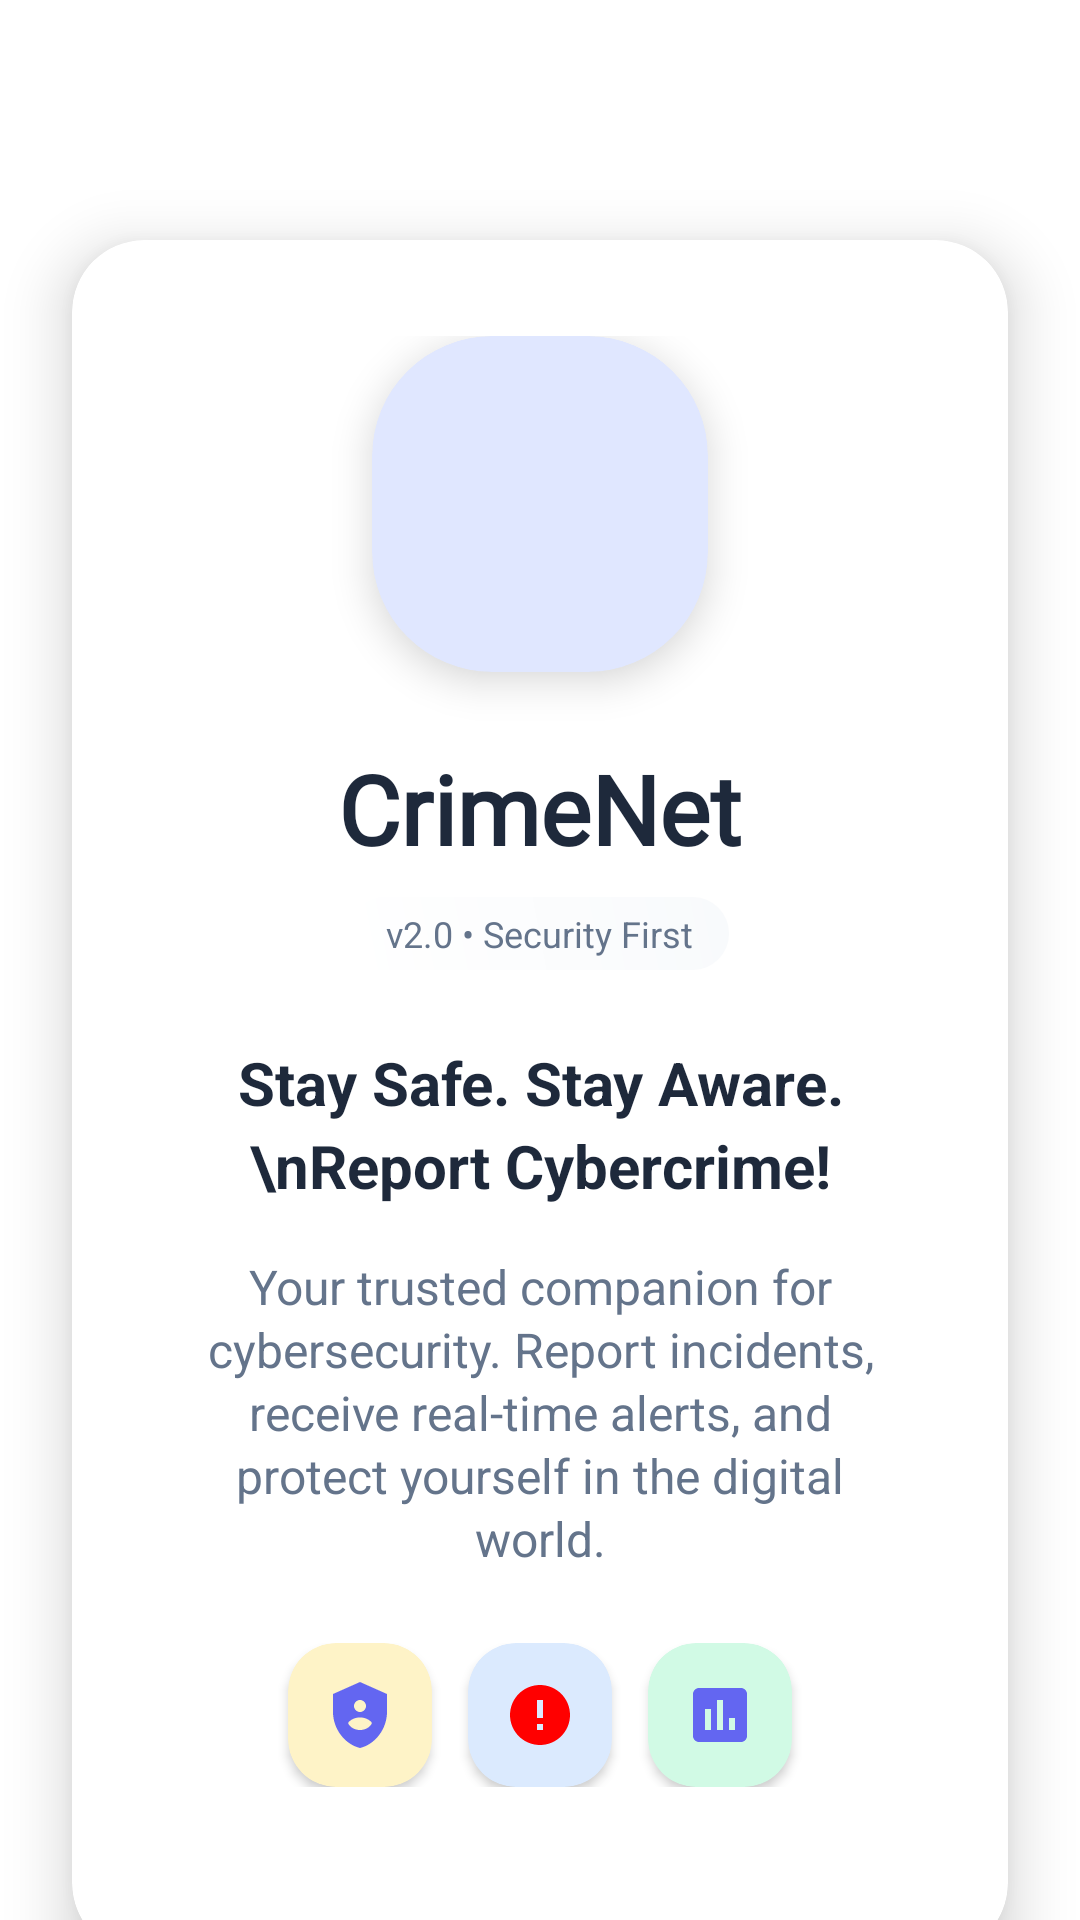

Screen size 1080 x 1920. Icon name, then its center in pixels as point (x, y):
Alert System: point (540, 1715)
Report System: point (720, 1715)
Shield Protection: point (360, 1715)
